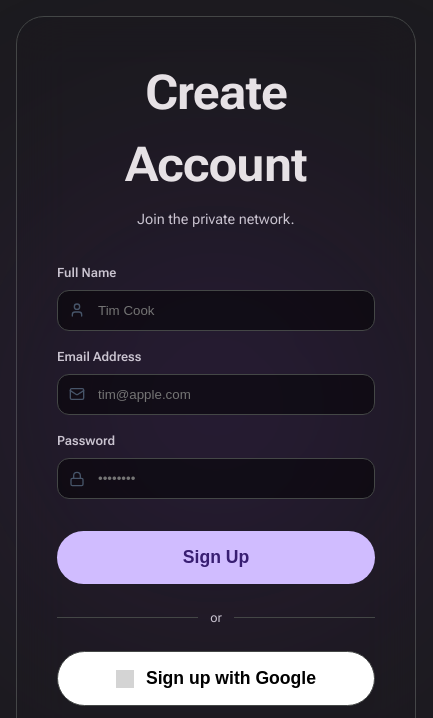
SignUp › shows error message when signup fails
The width and height of the screenshot is (433, 718).
In the field with placeholder "Tim Cook": (216, 310) [57, 290, 375, 331], type "Test User"
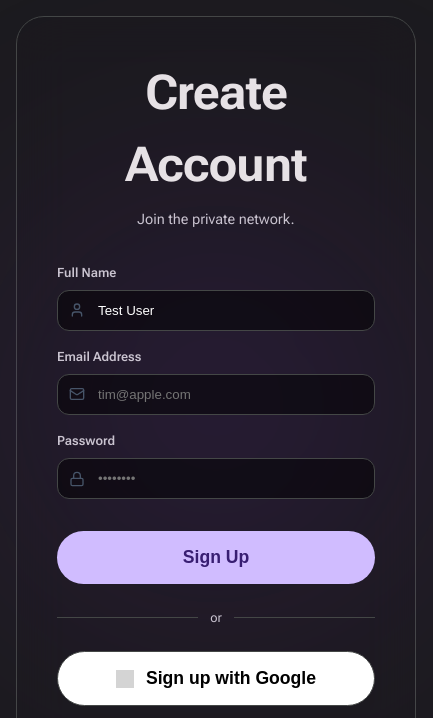
In the field with placeholder "tim@apple.com": (216, 394) [57, 374, 375, 415], type "test@test.com"
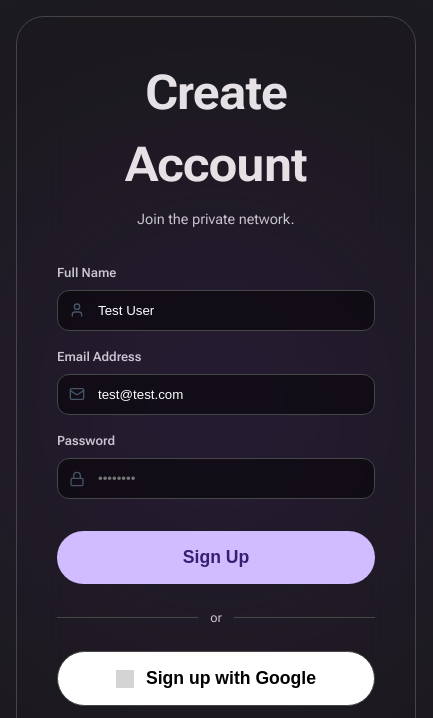
In the password field with placeholder "••••••••": (216, 479) [57, 458, 375, 499], type "password123"
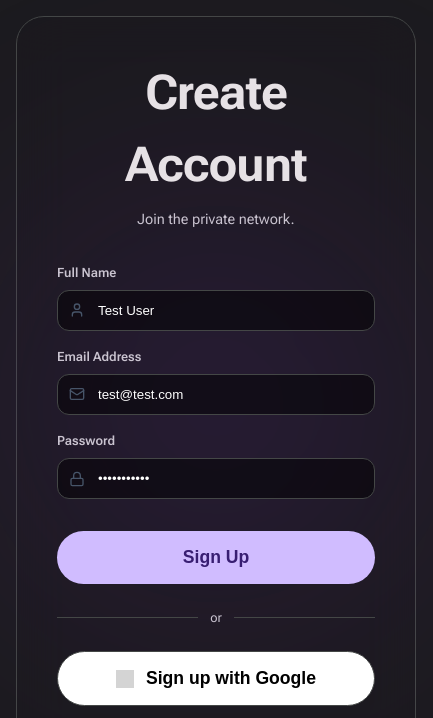
Click the button "Sign Up": (216, 558) [57, 531, 375, 584]
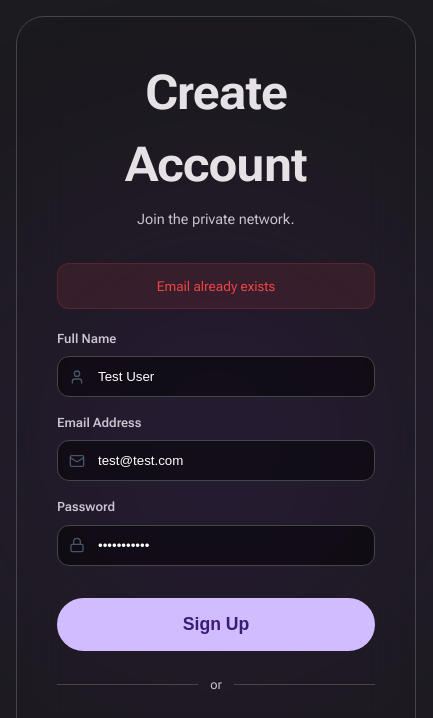
Expected: the text "Email already exists" is shown, [57, 263, 375, 309]
